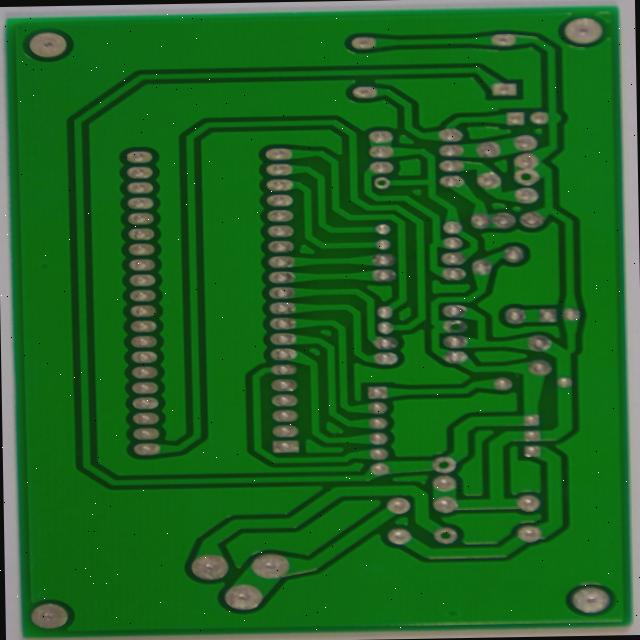missing_hole: (386, 437, 422, 463), (388, 516, 427, 538), (488, 127, 521, 150), (402, 291, 433, 311), (321, 136, 344, 152)
